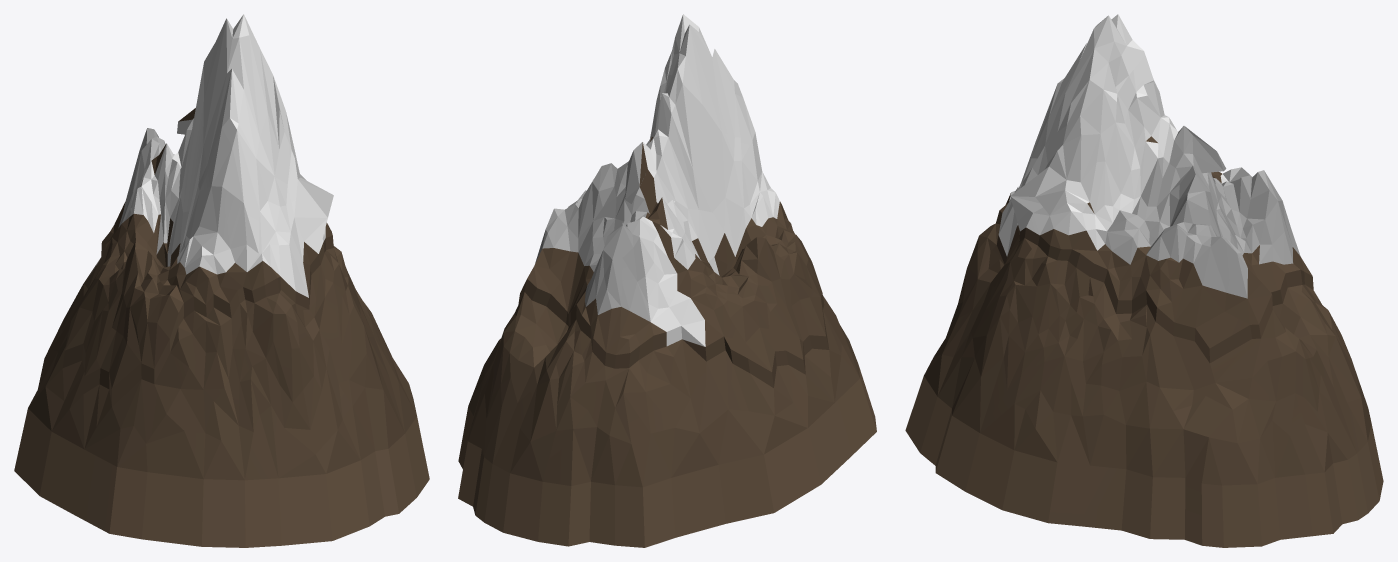
The model's file is huge montain.fbx.
The picture shows the model from 3 angles, left to right: view 1: azimuth 30°, elevation 25°; view 2: azimuth 150°, elevation 25°; view 3: azimuth 270°, elevation 25°; orthographic projection. The views are drawn at different scales.
Visible parts, largest first — view 1: pasted__PP_Forest_Mountain_Moss_01_31; view 2: pasted__PP_Forest_Mountain_Moss_01_31; view 3: pasted__PP_Forest_Mountain_Moss_01_31.
Part boxes in pixels (box(x1,y1,x2,y2)): pasted__PP_Forest_Mountain_Moss_01_31: box(14, 14, 429, 547); pasted__PP_Forest_Mountain_Moss_01_31: box(458, 14, 876, 547); pasted__PP_Forest_Mountain_Moss_01_31: box(905, 14, 1383, 547).
Size of the model in its own units: 36.7 by 47.72 by 44.97.
